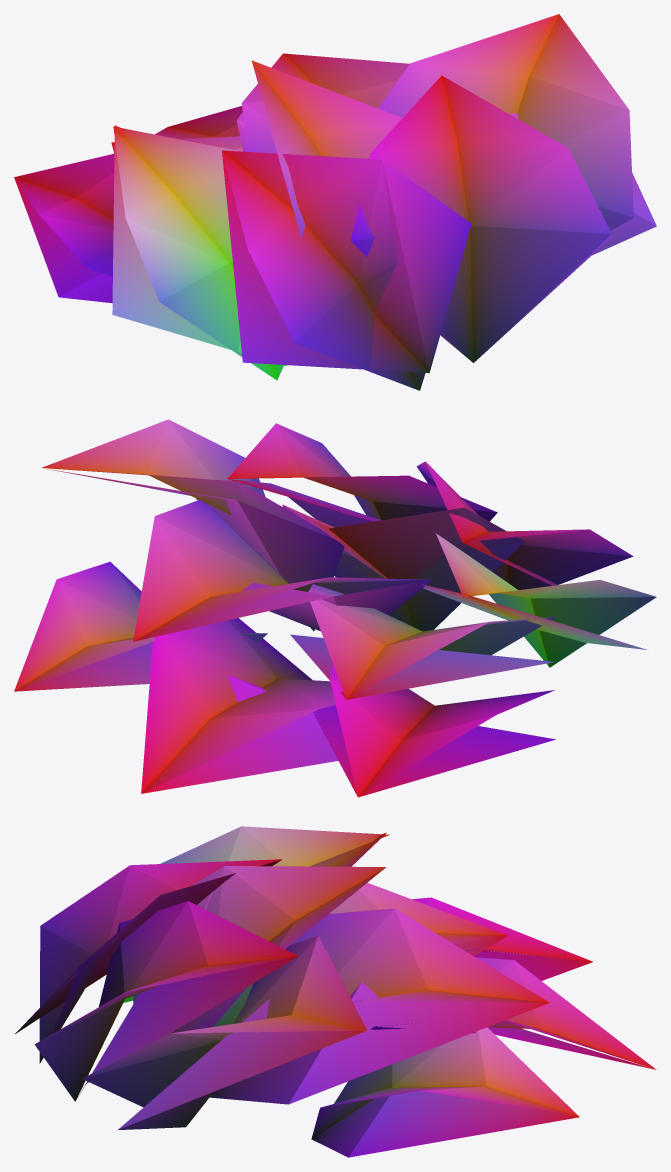
File: broadfern_partial_b.dae
The picture shows the model from 3 angles, top to bottom: view 1: azimuth 30°, elevation 25°; view 2: azimuth 150°, elevation 25°; view 3: azimuth 270°, elevation 25°; orthographic projection.
Visible parts, largest first — view 1: broadfern64, broadfern8; view 2: broadfern64, broadfern8; view 3: broadfern64, broadfern8.
Boxes of the visible parts, box(x1,y1,x2,y2) form: broadfern64: box(14, 14, 633, 390); broadfern8: box(14, 112, 656, 373); broadfern64: box(14, 419, 656, 797); broadfern8: box(14, 469, 646, 797); broadfern64: box(34, 826, 656, 1138); broadfern8: box(15, 832, 654, 1157).
Size of the model in its own units: 3.24 by 3.44 by 1.21.
